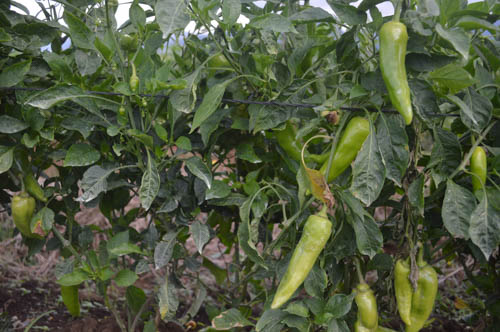ChiliPepper: (267, 214, 335, 309), (319, 119, 376, 183), (381, 21, 414, 127), (406, 266, 442, 327), (269, 119, 307, 159), (12, 198, 40, 238), (393, 259, 409, 323), (353, 282, 374, 330), (471, 149, 486, 196)
